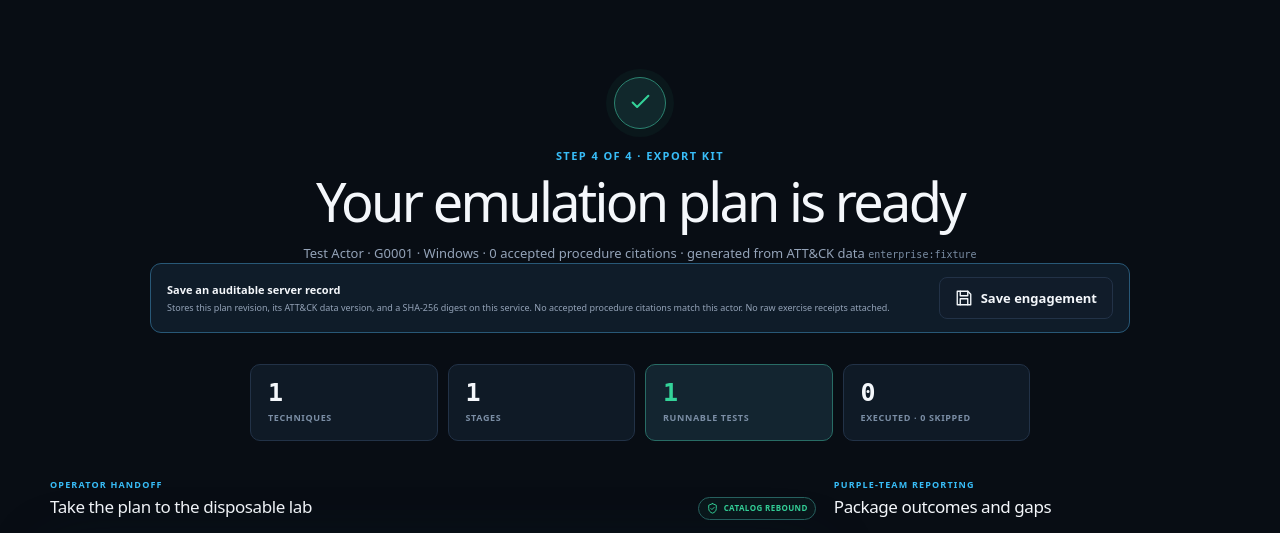
Test: ExportScreen report generation › clears a failed engagement save after a successful retry
Click the button "Save engagement": (1026, 298) [939, 277, 1113, 319]
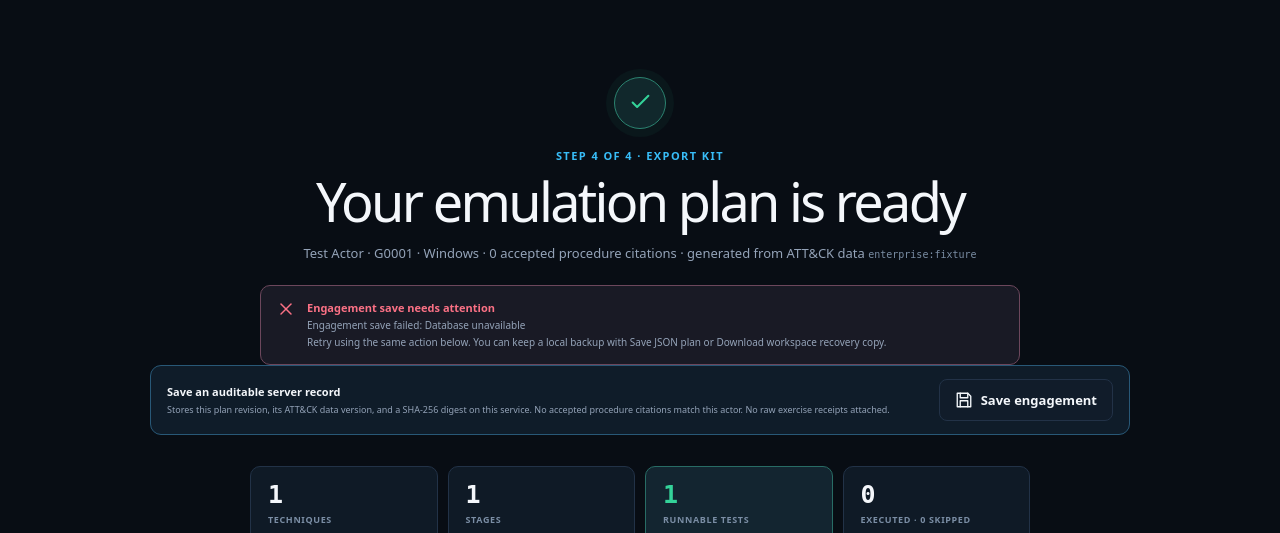
Check: the message is shown, box [260, 285, 1020, 365]
Click the button "Save engagement": (1026, 400) [939, 379, 1113, 421]
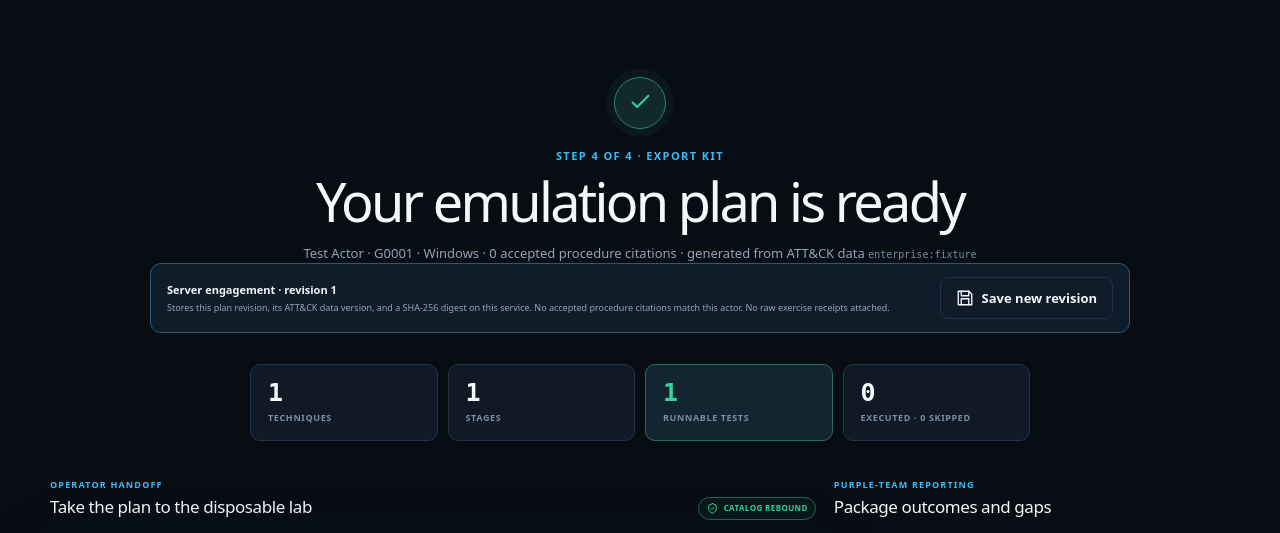
Check: the button "Save new revision" is shown, box [940, 277, 1113, 319]
Check: the message is gone
